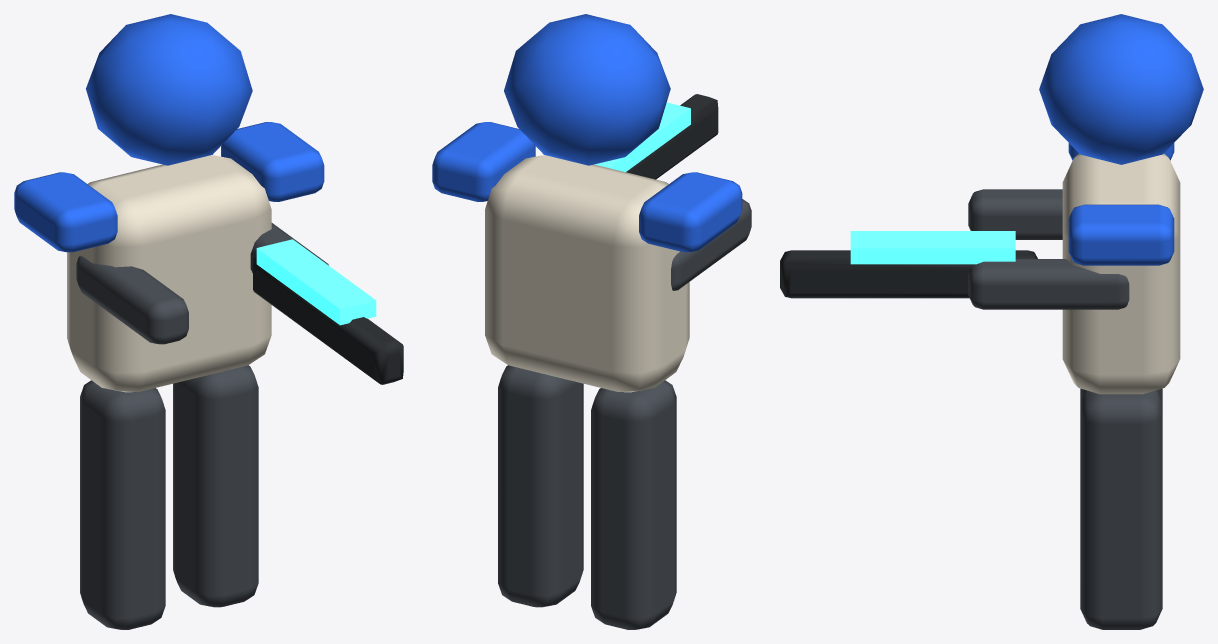
File: laser_trooper.glb
3 views of the same model, side by side, from view 1: azimuth 30°, elevation 25°; view 2: azimuth 150°, elevation 25°; view 3: azimuth 270°, elevation 25° (orthographic).
Visible parts, largest first — view 1: laser_trooper__M_SmokePlastic, laser_trooper__M_CreamPlastic, laser_trooper__M_Team, turret__M_SmokePlastic, barrel__M_Dark, barrel__M_E_Cyan; view 2: laser_trooper__M_SmokePlastic, laser_trooper__M_CreamPlastic, laser_trooper__M_Team, barrel__M_Dark, turret__M_SmokePlastic, barrel__M_E_Cyan; view 3: laser_trooper__M_Team, laser_trooper__M_SmokePlastic, laser_trooper__M_CreamPlastic, turret__M_SmokePlastic, barrel__M_Dark, barrel__M_E_Cyan.
Boxes of the visible parts, x1,y1,x2,y2 form: laser_trooper__M_SmokePlastic: (80,365,258,629); laser_trooper__M_CreamPlastic: (67,155,271,392); laser_trooper__M_Team: (14,14,324,252); turret__M_SmokePlastic: (76,223,328,344); barrel__M_Dark: (253,256,403,384); barrel__M_E_Cyan: (256,239,376,325); laser_trooper__M_SmokePlastic: (498,365,676,629); laser_trooper__M_CreamPlastic: (485,155,689,392); laser_trooper__M_Team: (432,14,742,252); barrel__M_Dark: (626,94,718,179); turret__M_SmokePlastic: (671,199,751,290); barrel__M_E_Cyan: (594,102,690,172); laser_trooper__M_Team: (1039,14,1203,265); laser_trooper__M_SmokePlastic: (1080,388,1162,629); laser_trooper__M_CreamPlastic: (1062,153,1180,394); turret__M_SmokePlastic: (968,189,1129,309); barrel__M_Dark: (780,250,1037,298); barrel__M_E_Cyan: (850,231,1015,264).
Size of the model in its own units: 0.26 by 0.543 by 0.36.
